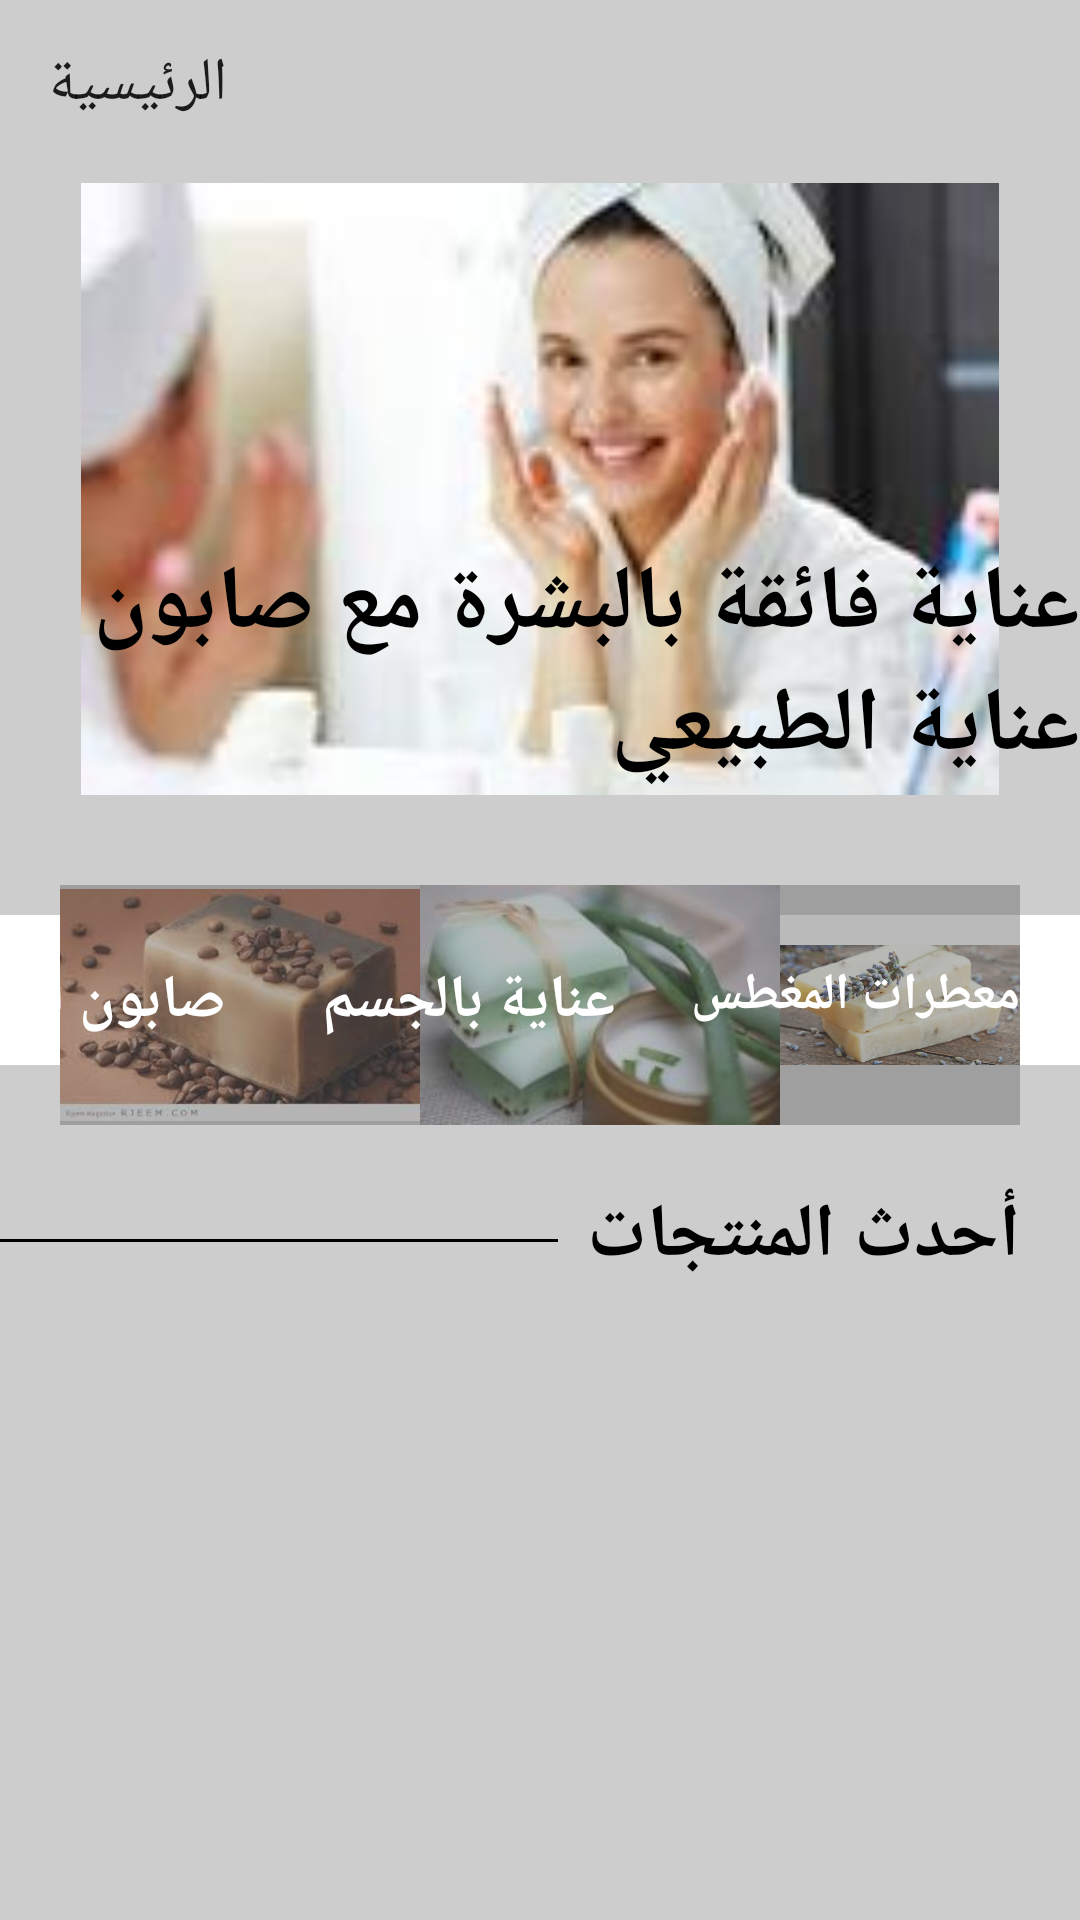

Named icons in this screenshot (1080*1920) and their bounding boxes, (x1, y1, x2, y2):
coofee: (60, 885, 420, 1125)
khozame: (780, 885, 1020, 1125)
